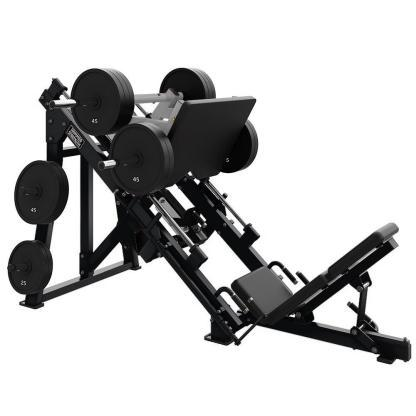leg press: (6, 60, 413, 376)
